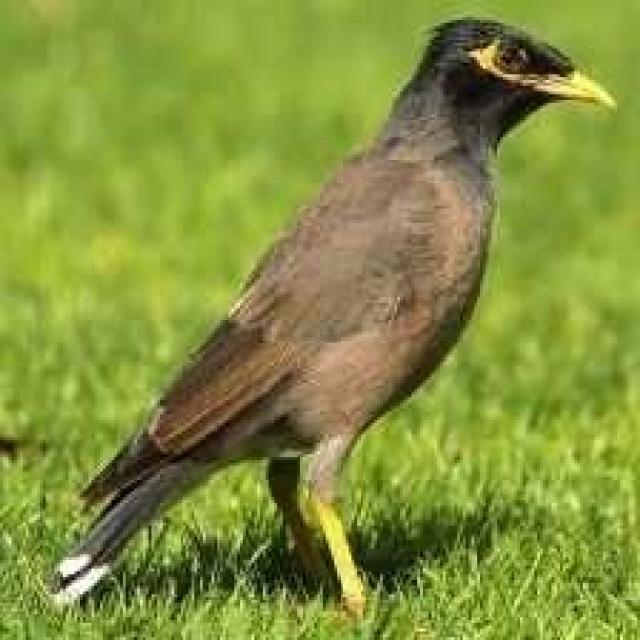bird: (44, 11, 625, 634)
